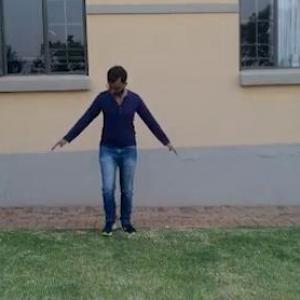land: (49, 42, 193, 258)
